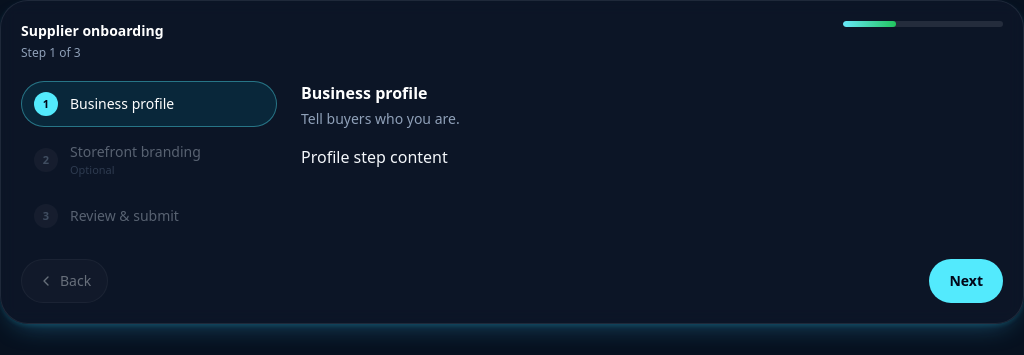
SupplierOnboardingWizard › blocks Next and shows an inline alert when the step is incomplete
Click the button "Next" at (966, 281), box [930,259,1003,303]
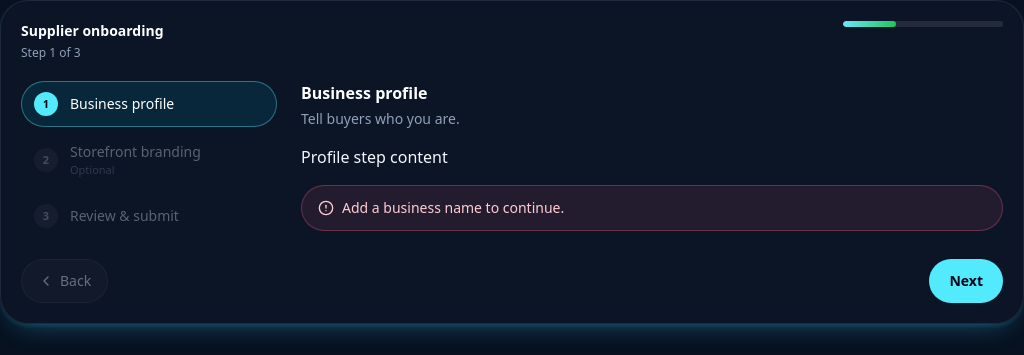
Check: the text "Profile step content" is shown, box [301,146,448,168]
Check: the message reads "Add a business name to continue.", box [342,198,564,217]
